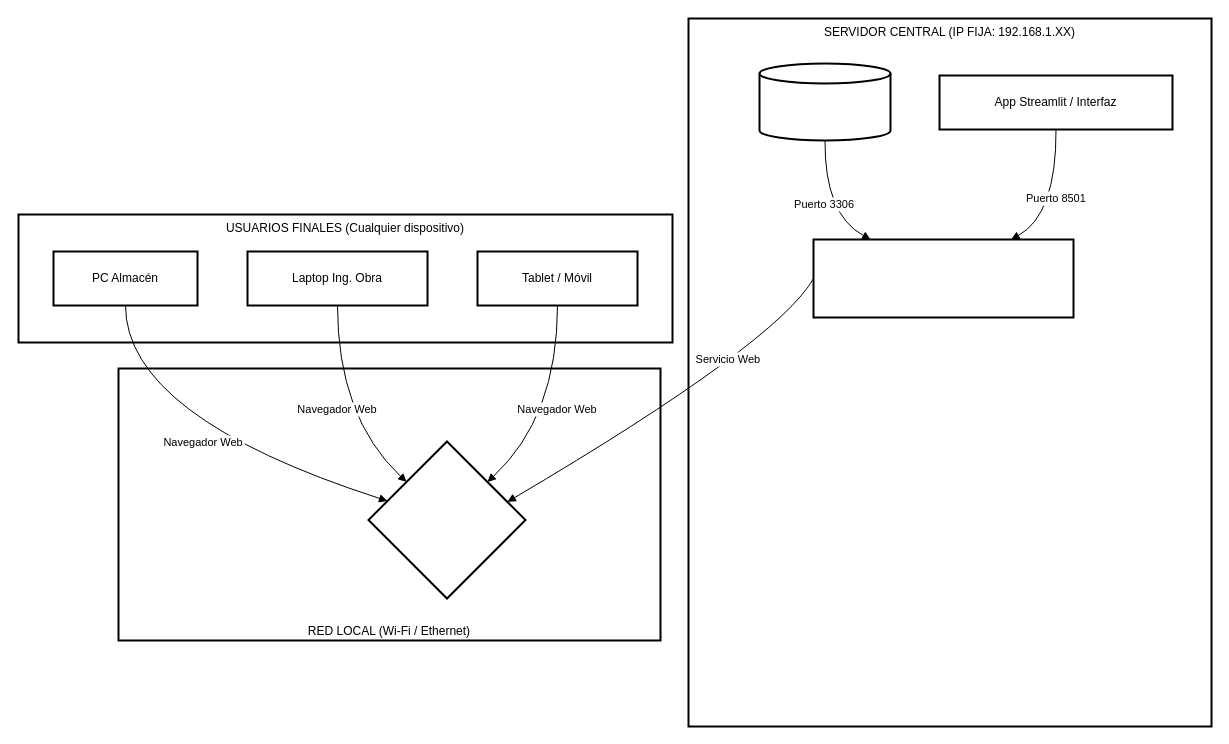
Some shapes in this 1229 by 744 pixel diagram are drawn without their labels. Each missing label, with the box of its shape:
Backend Python / SQLAlchemy: (812, 238, 1074, 318)
MySQL Database: (758, 62, 891, 141)
Router Oficina: (367, 440, 526, 599)
